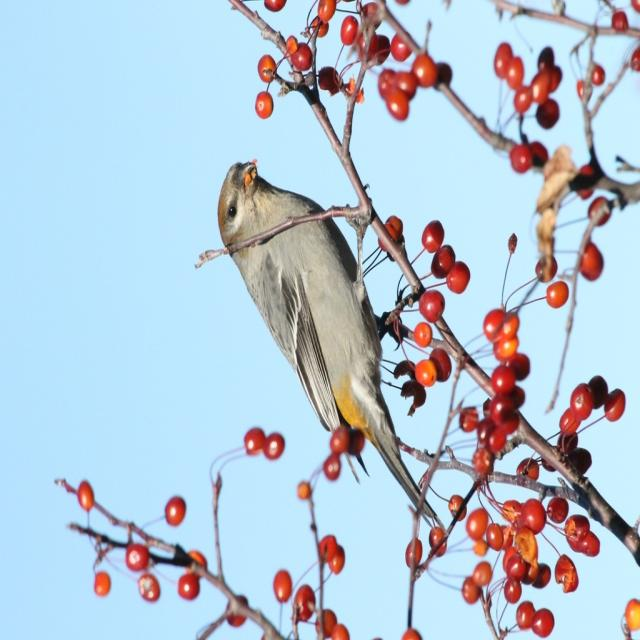bird: (209, 149, 454, 535)
